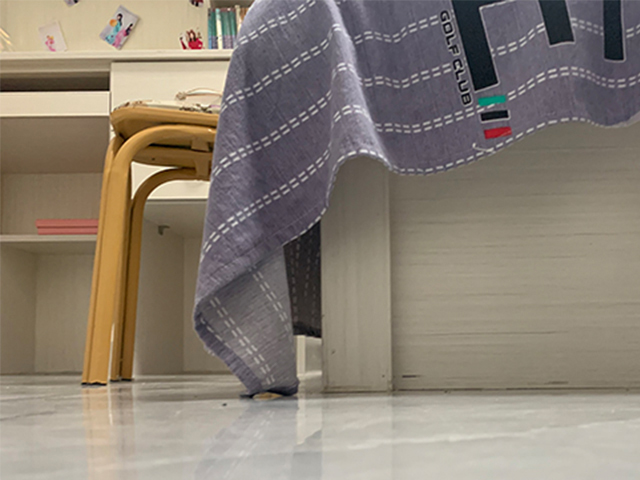bed: (191, 1, 640, 398)
stool: (80, 98, 220, 386)
table: (3, 45, 250, 378)
